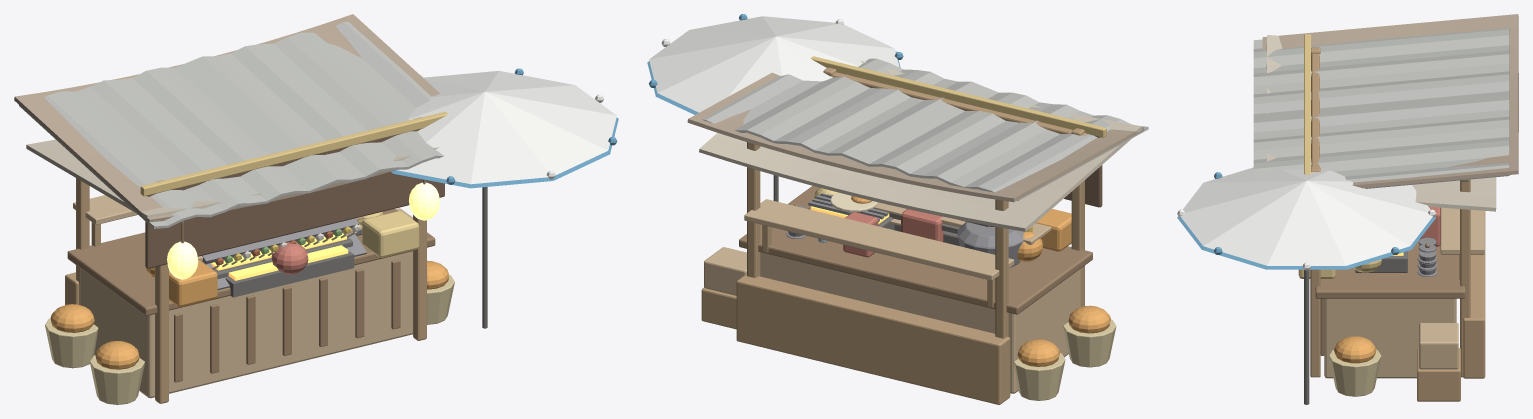
File: stall.glb
3 views of the same model, side by side, from view 1: azimuth 30°, elevation 25°; view 2: azimuth 150°, elevation 25°; view 3: azimuth 270°, elevation 25° (orthographic). The views are drawn at different scales.
Parts seen in each view (by area): view 1: TinRoof, Counter, Umbrella, SignBoard, Awning, SkewerTrays, CounterTop, SignTrim, Awning2, Goods.005, Post, Basket (+19 smaller); view 2: TinRoof, BackWall, Umbrella, Awning2, CounterTop, Counter, Shelf, Awning, SignTrim, Basket, Post.001, Basket.002 (+16 smaller); view 3: TinRoof, Umbrella, Counter, Awning, CounterTop, Awning2, BackWall, Crate2, Basket.001, Shelf, Crate, Post.003 (+7 smaller).
Part boxes in pixels (bbox=[...]): TinRoof: bbox=[19, 21, 443, 228]; Counter: bbox=[80, 251, 412, 398]; Umbrella: bbox=[391, 68, 618, 328]; SignBoard: bbox=[145, 129, 444, 268]; Awning: bbox=[14, 14, 440, 223]; SkewerTrays: bbox=[202, 218, 366, 297]; CounterTop: bbox=[67, 208, 435, 315]; SignTrim: bbox=[140, 111, 447, 196]; Awning2: bbox=[26, 139, 439, 219]; Goods.005: bbox=[362, 211, 419, 257]; Post: bbox=[155, 180, 168, 403]; Basket: bbox=[90, 355, 144, 404]; TinRoof: bbox=[702, 58, 1148, 200]; BackWall: bbox=[736, 274, 1010, 404]; Umbrella: bbox=[647, 14, 903, 201]; Awning2: bbox=[699, 61, 1141, 231]; CounterTop: bbox=[739, 186, 1092, 314]; Counter: bbox=[760, 252, 1080, 393]; Shelf: bbox=[744, 199, 1014, 280]; Awning: bbox=[687, 72, 1143, 202]; SignTrim: bbox=[810, 56, 1106, 137]; Basket: bbox=[1063, 319, 1116, 367]; Post.001: bbox=[995, 199, 1008, 338]; Basket.002: bbox=[1013, 353, 1065, 400]; TinRoof: bbox=[1253, 28, 1509, 188]; Umbrella: bbox=[1177, 167, 1436, 404]; Counter: bbox=[1324, 298, 1456, 378]; Awning: bbox=[1262, 14, 1518, 188]; CounterTop: bbox=[1315, 240, 1465, 298]; Awning2: bbox=[1266, 35, 1496, 211]; BackWall: bbox=[1463, 211, 1485, 378]; Crate2: bbox=[1419, 323, 1458, 369]; Basket.001: bbox=[1329, 349, 1381, 396]; Shelf: bbox=[1440, 207, 1484, 254]; Crate: bbox=[1417, 348, 1460, 401]; Post.003: bbox=[1460, 179, 1470, 377].
Bounding box in the file's own units: 6.06 × 2.81 × 3.88.
